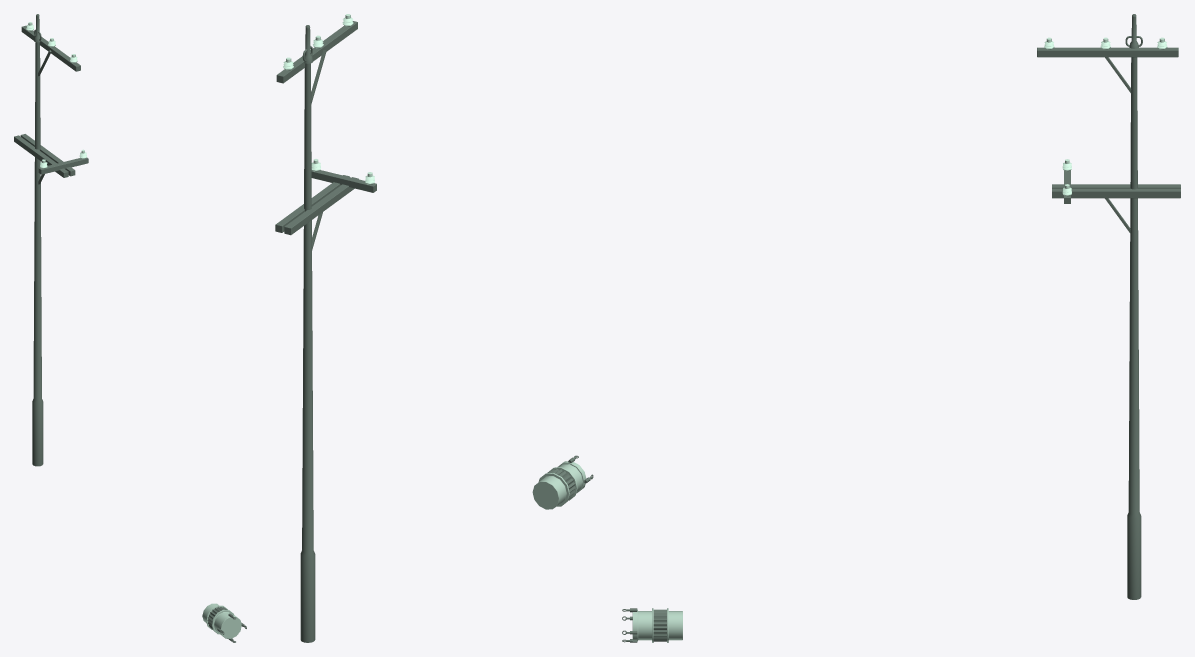
Rendered from pole.fbx.
The picture shows the model from 3 angles, left to right: view 1: azimuth 30°, elevation 25°; view 2: azimuth 150°, elevation 25°; view 3: azimuth 270°, elevation 25°; orthographic projection. The views are drawn at different scales.
Visible parts, largest first — view 1: telephone pole, telephone pole.011, telephone pole.008, telephone pole.001, telephone pole.010; view 2: telephone pole, telephone pole.011, telephone pole.008, telephone pole.001, telephone pole.010; view 3: telephone pole, telephone pole.008, telephone pole.001, telephone pole.011.
Part boxes in pixels (box(x1,y1,x2,y2)): telephone pole: box(32, 42, 43, 466); telephone pole.011: box(202, 603, 241, 638); telephone pole.008: box(14, 134, 75, 177); telephone pole.001: box(21, 25, 80, 71); telephone pole.010: box(38, 157, 88, 174); telephone pole: box(300, 63, 315, 642); telephone pole.011: box(532, 461, 586, 509); telephone pole.008: box(275, 175, 358, 235); telephone pole.001: box(276, 21, 357, 83); telephone pole.010: box(311, 170, 376, 192); telephone pole: box(1127, 57, 1141, 599); telephone pole.008: box(1052, 184, 1180, 198); telephone pole.001: box(1037, 47, 1178, 57); telephone pole.011: box(632, 608, 682, 642).
Bounding box in the file's own units: 0.6019 × 5.89 × 4.76.
